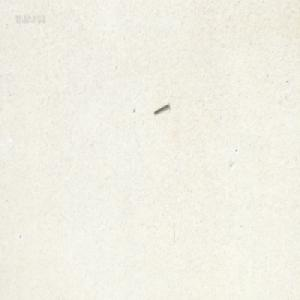Bolt: (152, 101, 169, 113)
